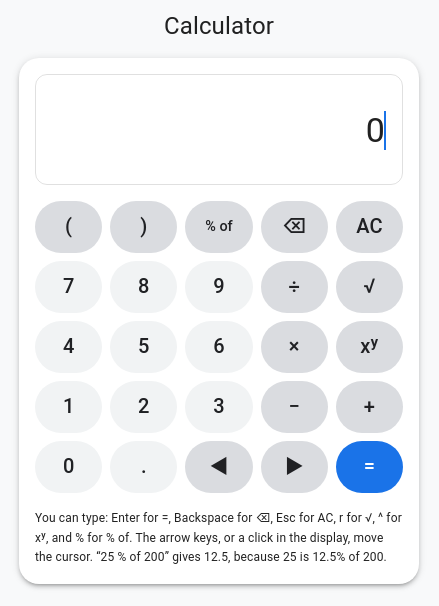
Test case: App › AC-034 shows the message for an error from the service
The image size is (439, 606).
Click the button "1" at (69, 407), box x1=35 y1=381 x2=102 y2=433
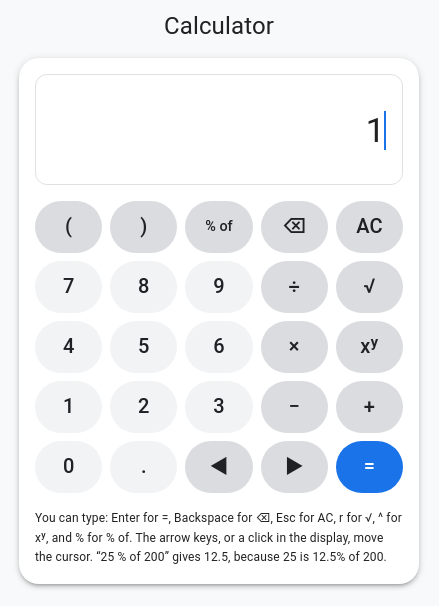
Click the button named "divide" at (294, 287), box x1=261 y1=261 x2=328 y2=313
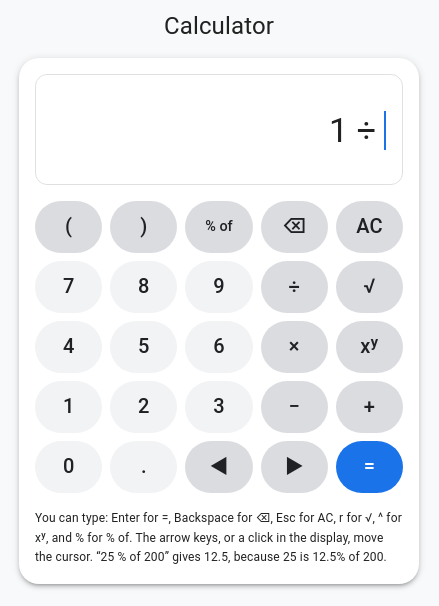
Click the button "0" at (69, 467), box x1=35 y1=441 x2=102 y2=493
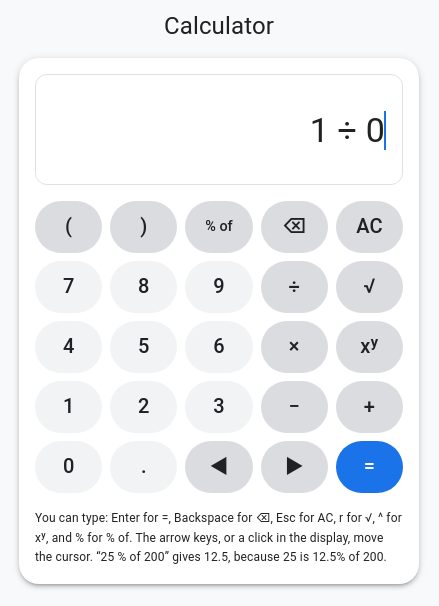
Click the button named "equals" at (369, 467), box x1=336 y1=441 x2=403 y2=493
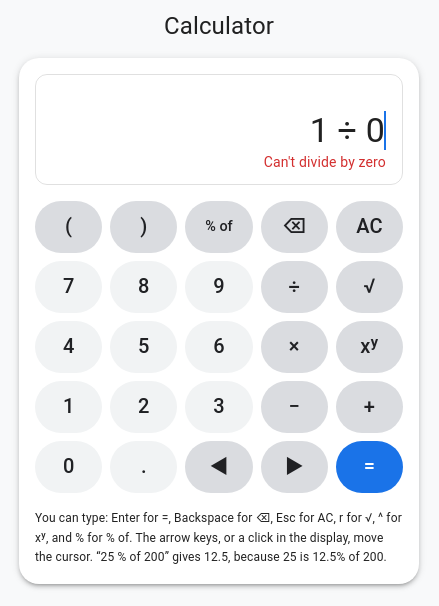
Now the message "Can't divide by zero" is shown, box x1=264 y1=154 x2=386 y2=170
